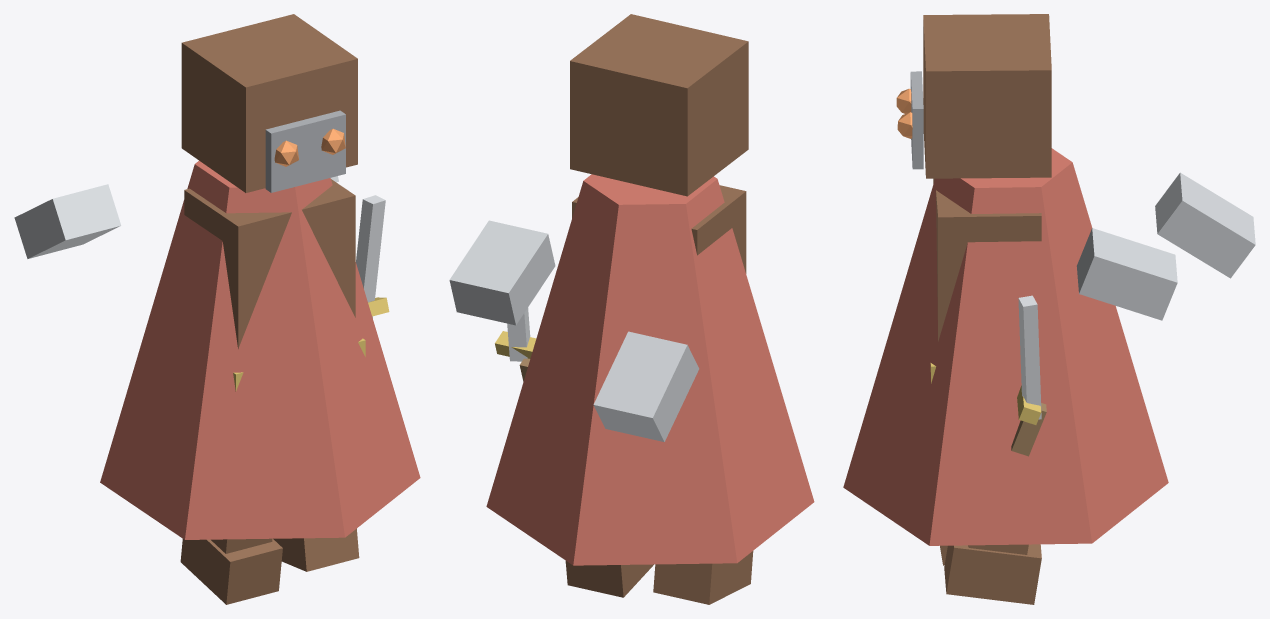
File: npcpose_raider_attack_01.glb
3 renders of one model, left to right at view 1: azimuth 30°, elevation 25°; view 2: azimuth 150°, elevation 25°; view 3: azimuth 270°, elevation 25°, orthographic. The views are drawn at different scales.
Parts seen in each view (by area): view 1: npcpose; view 2: npcpose; view 3: npcpose.
Part boxes in pixels (bbox=[...]): npcpose: bbox=[14, 14, 420, 604]; npcpose: bbox=[449, 14, 814, 604]; npcpose: bbox=[843, 14, 1255, 604].
Size of the model in its own units: 0.8221 by 1.58 by 1.11.
